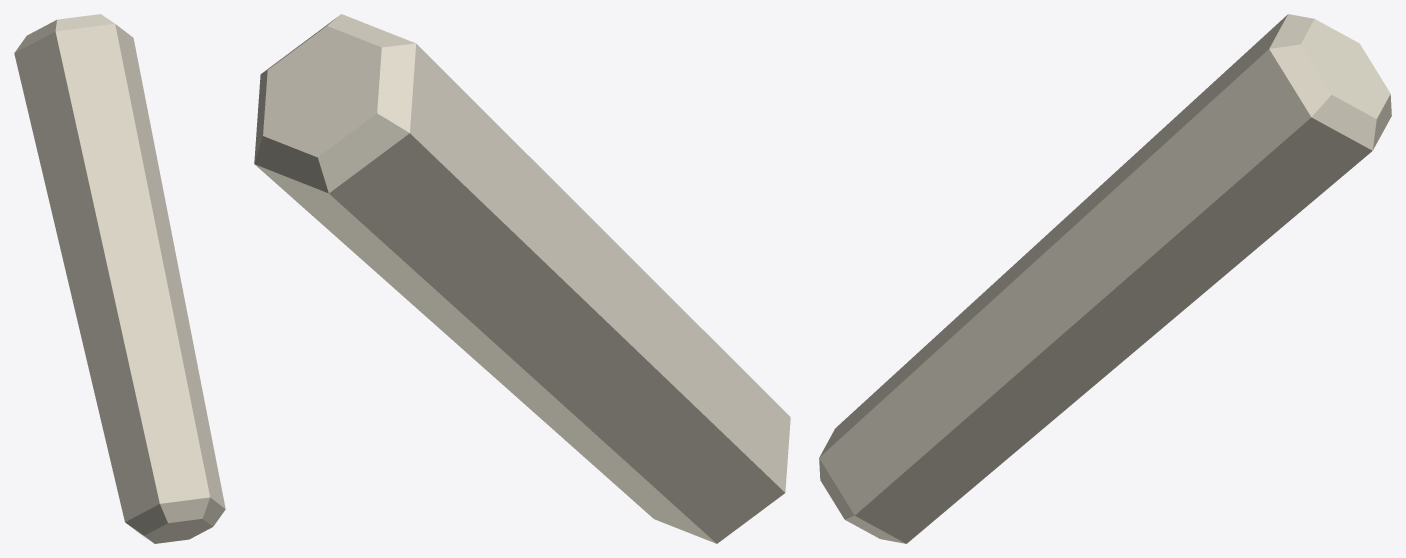
Rendered from rm2_arm_r_upper.obj.
The picture shows the model from 3 angles, left to right: view 1: azimuth 30°, elevation 25°; view 2: azimuth 150°, elevation 25°; view 3: azimuth 270°, elevation 25°; orthographic projection. The views are drawn at different scales.
Parts seen in each view (by area): view 1: rm2_arm_r_upper; view 2: rm2_arm_r_upper; view 3: rm2_arm_r_upper.
Part boxes in pixels (left/top/right/bottom): rm2_arm_r_upper: left=14, top=14, right=225, bottom=543; rm2_arm_r_upper: left=254, top=14, right=790, bottom=543; rm2_arm_r_upper: left=819, top=14, right=1391, bottom=543.
Bounding box in the file's own units: 0.1372 × 0.3153 × 0.3039.
